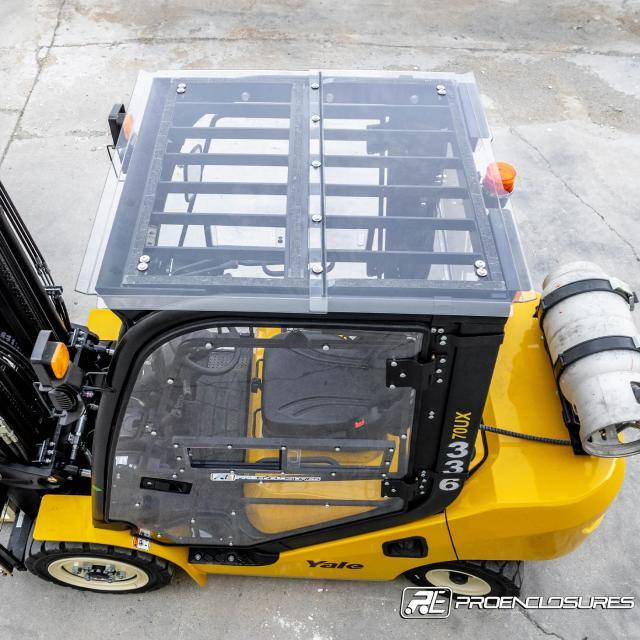forklift: (0, 57, 640, 606)
